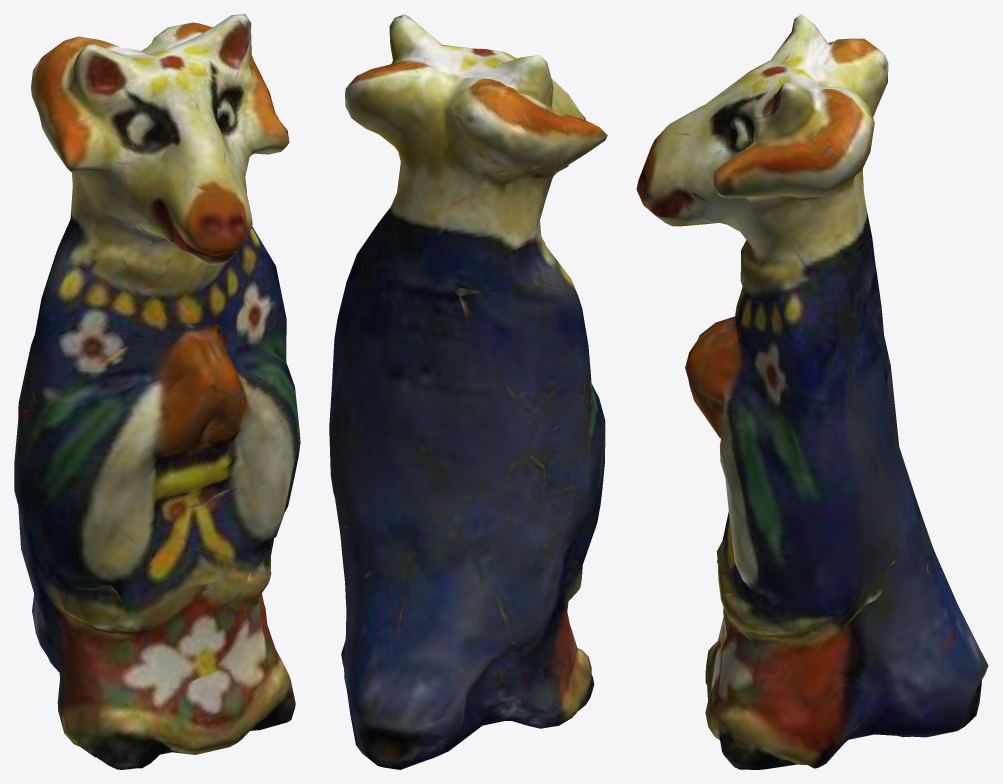
File: hall.glb
The picture shows the model from 3 angles, left to right: view 1: azimuth 30°, elevation 25°; view 2: azimuth 150°, elevation 25°; view 3: azimuth 270°, elevation 25°; orthographic projection. The views are drawn at different scales.
Size of the model in its own units: 0.1741 by 0.4399 by 0.2064.
1 material, 1 textured.
